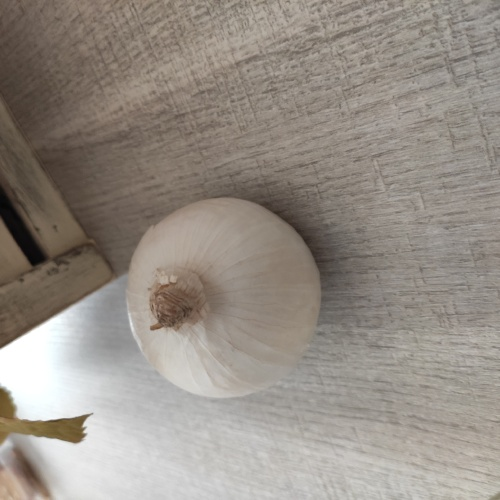cipolla: (122, 197, 328, 397)
